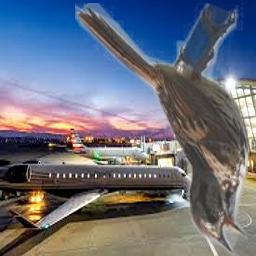Sparrow: (75, 3, 248, 256)
